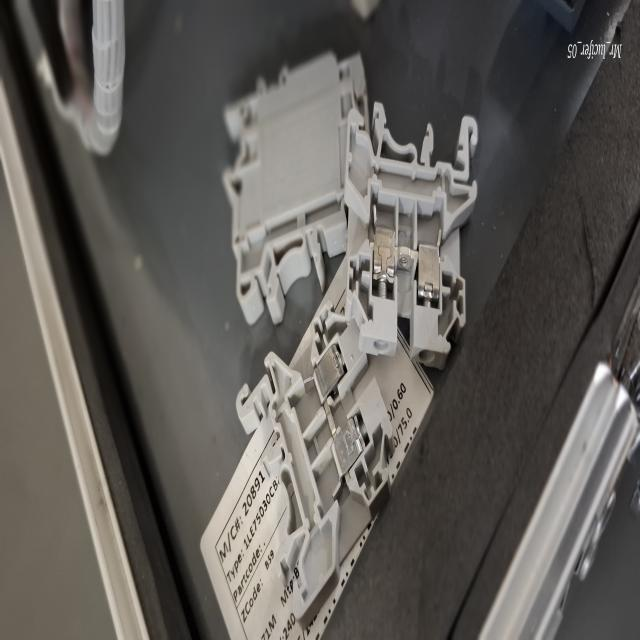Pass: (340, 86, 484, 382)
